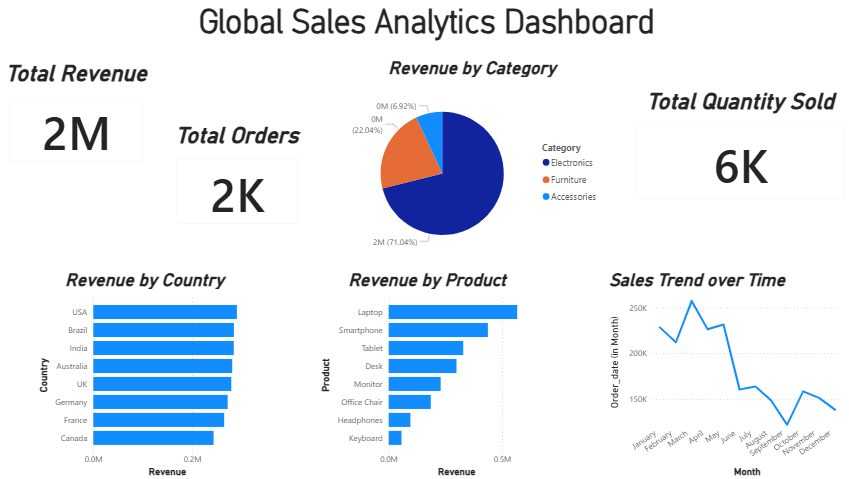

This screenshot's page, from the dashboard's own definition file:
{"tool":"powerbi","page":{"name":"Page 1","canvas":[1280,720],"ordinal":0},"visuals":[{"type":"cardVisual","title":"Total Quantity Sold","fields":{"Data":["Sum(global_sales_dataset.Quantity)"]},"box":[935.6,134.4,344.4,183.1],"z":0},{"type":"cardVisual","title":"Total Revenue","fields":{"Data":["Sum(global_sales_dataset.Revenue)"]},"box":[0,92.4,233.5,169.7],"z":1000},{"type":"cardVisual","title":"Total Orders","fields":{"Data":["CountNonNull(global_sales_dataset.Order_ID)"]},"box":[248.6,184.8,215,169.7],"z":2000},{"type":"clusteredBarChart","title":"Revenue by Country","fields":{"Category":["global_sales_dataset.Country"],"Y":["Sum(global_sales_dataset.Revenue)"]},"box":[55.4,404.8,327.6,315.8],"z":3000},{"type":"clusteredBarChart","title":"Revenue by Product","fields":{"Category":["global_sales_dataset.Product"],"Y":["Sum(global_sales_dataset.Revenue)"]},"box":[475.4,404.8,329.2,315.8],"z":4000},{"type":"pieChart","title":"Revenue by Category","fields":{"Category":["global_sales_dataset.Category"],"Y":["Sum(global_sales_dataset.Revenue)"]},"box":[509,87.3,398.1,317.5],"z":5000},{"type":"lineChart","title":"Sales Trend over Time","fields":{"Y":["Sum(global_sales_dataset.Revenue)"],"Category":["global_sales_dataset.Order_Date.Variation.Date Hierarchy.Month"]},"box":[907.1,404.8,356.1,315.8],"z":6000},{"type":"textbox","box":[0,0,1280,87.3],"z":7000}]}

Visuals, with their boxes in screenshot pixels (x1, y1, x2, y2), scaled from the page's 1280x720 canvas onto the 849x479 screenshot:
"Total Quantity Sold" cardVisual: [left=621, top=89, right=848, bottom=211]
"Total Revenue" cardVisual: [left=0, top=61, right=155, bottom=174]
"Total Orders" cardVisual: [left=165, top=123, right=307, bottom=236]
"Revenue by Country" clusteredBarChart: [left=37, top=269, right=254, bottom=478]
"Revenue by Product" clusteredBarChart: [left=315, top=269, right=534, bottom=478]
"Revenue by Category" pieChart: [left=338, top=58, right=602, bottom=269]
"Sales Trend over Time" lineChart: [left=602, top=269, right=838, bottom=478]
textbox: [left=0, top=0, right=848, bottom=58]
